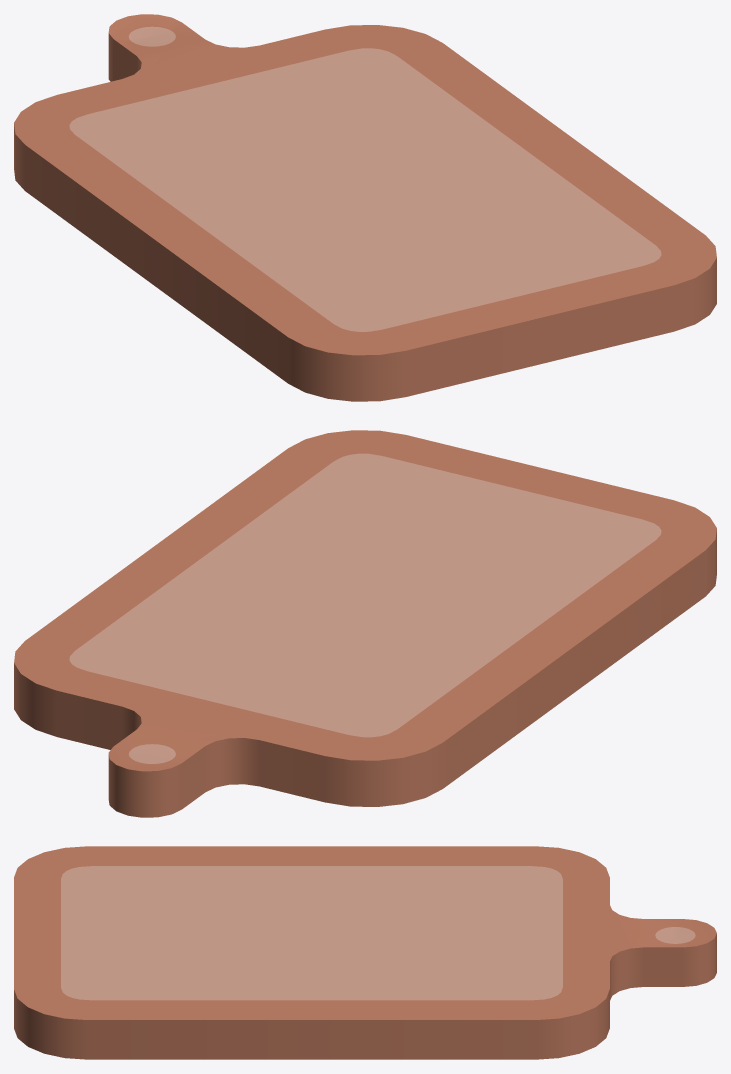
Rendered from Board.fbx.
3 renders of one model, top to bottom at view 1: azimuth 30°, elevation 25°; view 2: azimuth 150°, elevation 25°; view 3: azimuth 270°, elevation 25°, orthographic. The views are drawn at different scales.
Visible parts, largest first — view 1: Cube.011; view 2: Cube.011; view 3: Cube.011.
Boxes of the visible parts, box(x1,y1,x2,y2) form: Cube.011: box(14, 14, 716, 401); Cube.011: box(14, 430, 716, 817); Cube.011: box(14, 846, 716, 1059).
Bounding box in the file's own units: 0.535 × 0.0568 × 0.9145.
